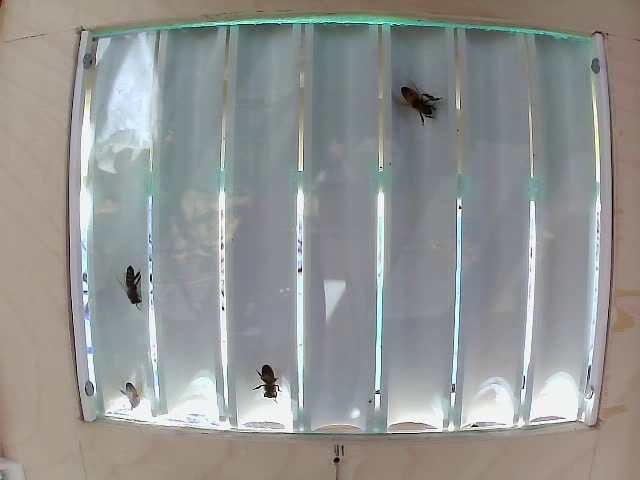bee: (233, 343, 282, 417), (392, 73, 442, 132), (105, 262, 157, 302)
